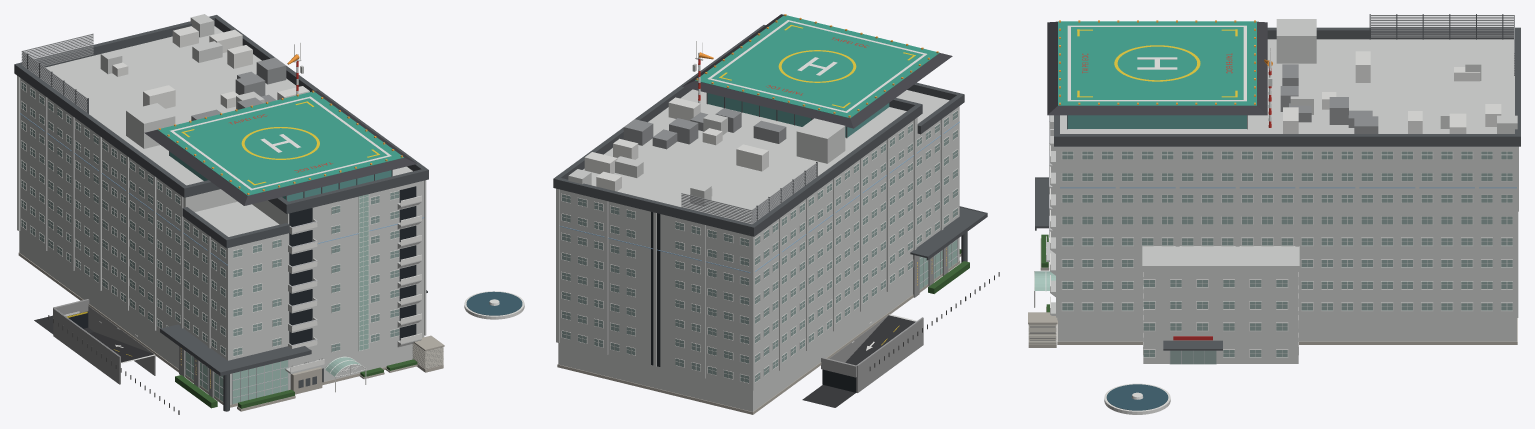
File: taipei-eoc-core.glb
3 renders of one model, left to right at view 1: azimuth 30°, elevation 25°; view 2: azimuth 150°, elevation 25°; view 3: azimuth 270°, elevation 25°, orthographic. The views are drawn at different scales.
Visible parts, largest first — view 1: EOC building, EOC helipad deck, EOC top storey, EOC basement ramp, EOC helipad safety net, EOC hedges, EOC fountain, EOC vent tower, EOC arched canopy; view 2: EOC building, EOC helipad deck, EOC top storey, EOC basement ramp, EOC helipad safety net, EOC hedges; view 3: EOC building, EOC east wing, EOC helipad deck, EOC top storey, EOC helipad safety net, EOC fountain, EOC vent tower.
Part boxes in pixels (x1=…): EOC building: x1=14, y1=15, x2=428, y2=407; EOC helipad deck: x1=157, y1=92, x2=403, y2=195; EOC top storey: x1=100, y1=14, x2=392, y2=201; EOC basement ramp: x1=34, y1=299, x2=155, y2=384; EOC helipad safety net: x1=144, y1=90, x2=416, y2=205; EOC hedges: x1=175, y1=359, x2=417, y2=411; EOC fountain: x1=464, y1=291, x2=524, y2=319; EOC vent tower: x1=412, y1=335, x2=444, y2=372; EOC arched canopy: x1=324, y1=356, x2=366, y2=392; EOC building: x1=553, y1=25, x2=987, y2=414; EOC helipad deck: x1=695, y1=15, x2=939, y2=118; EOC top storey: x1=568, y1=93, x2=889, y2=205; EOC basement ramp: x1=802, y1=314, x2=923, y2=407; EOC helipad safety net: x1=682, y1=14, x2=952, y2=128; EOC hedges: x1=928, y1=249, x2=969, y2=293; EOC building: x1=1035, y1=14, x2=1520, y2=344; EOC east wing: x1=1142, y1=246, x2=1299, y2=364; EOC helipad deck: x1=1058, y1=21, x2=1256, y2=105; EOC top storey: x1=1067, y1=19, x2=1517, y2=133; EOC helipad safety net: x1=1047, y1=21, x2=1267, y2=115; EOC fountain: x1=1104, y1=383, x2=1170, y2=414; EOC vent tower: x1=1028, y1=312, x2=1057, y2=347.
Size of the model in its own units: 71.59 by 50.2 by 74.3.
